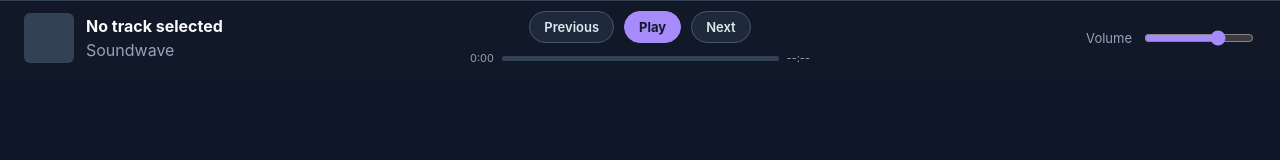
PlaybackBar › play / pause interaction › switches to Pause after one click
Click the button "Play": coordinates (653, 27) [624, 11, 681, 43]
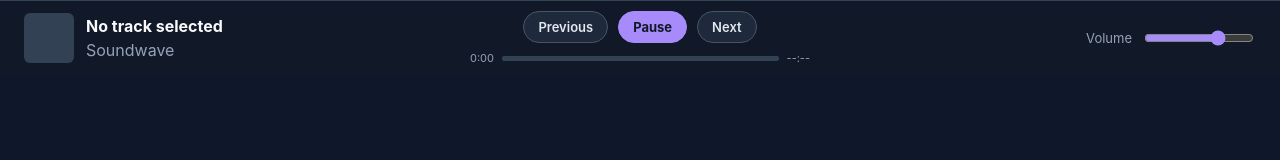
Result: the button "Pause" is shown at [618, 11, 687, 43]
Result: the button "Play" is gone
